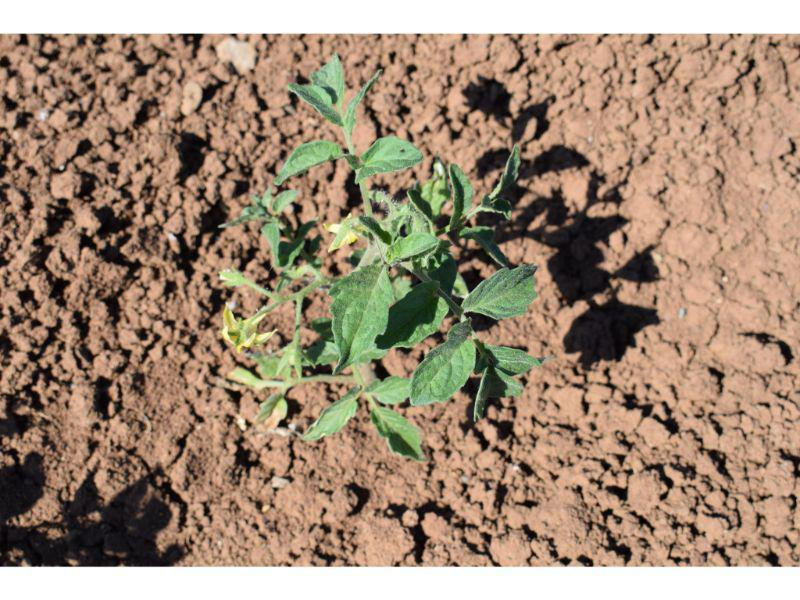tomato: (215, 51, 545, 461)
